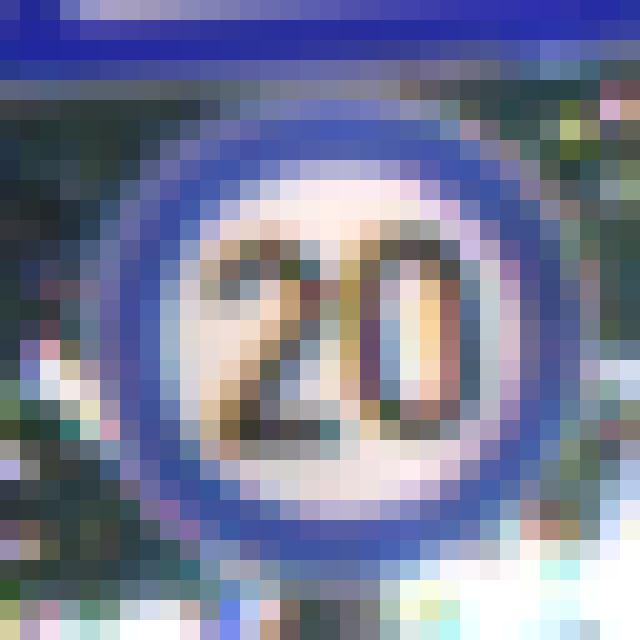SPEED LIMIT 20: (100, 119, 574, 544)
